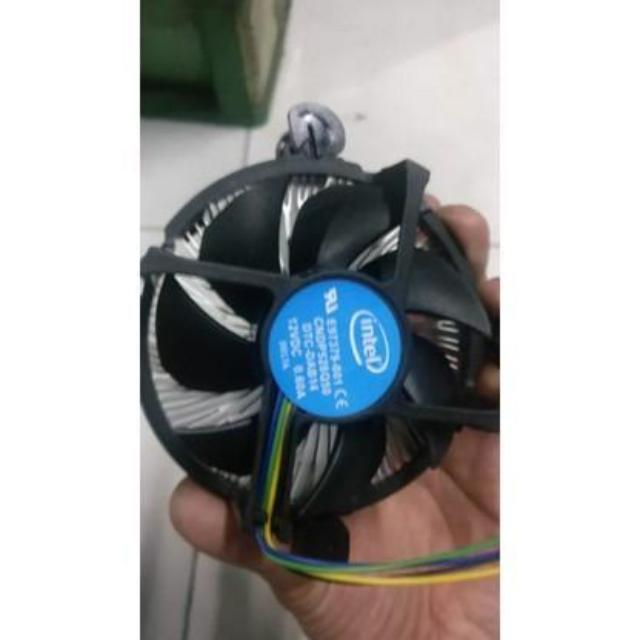CPU_Fan: (142, 133, 494, 559)
